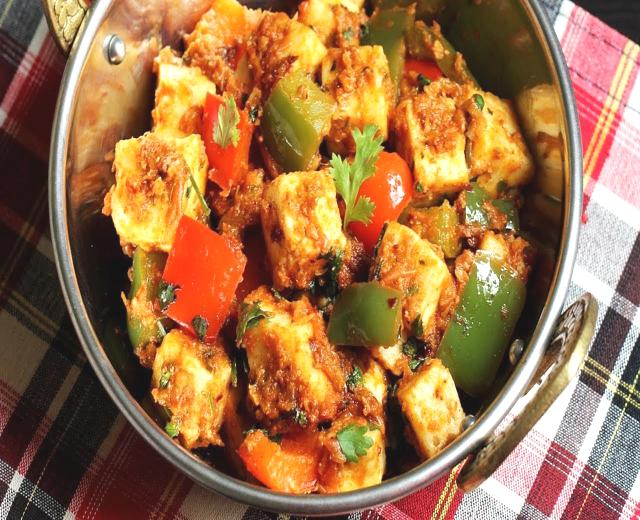kadai paneer: (44, 2, 580, 504), (30, 1, 561, 73), (47, 5, 123, 320)
